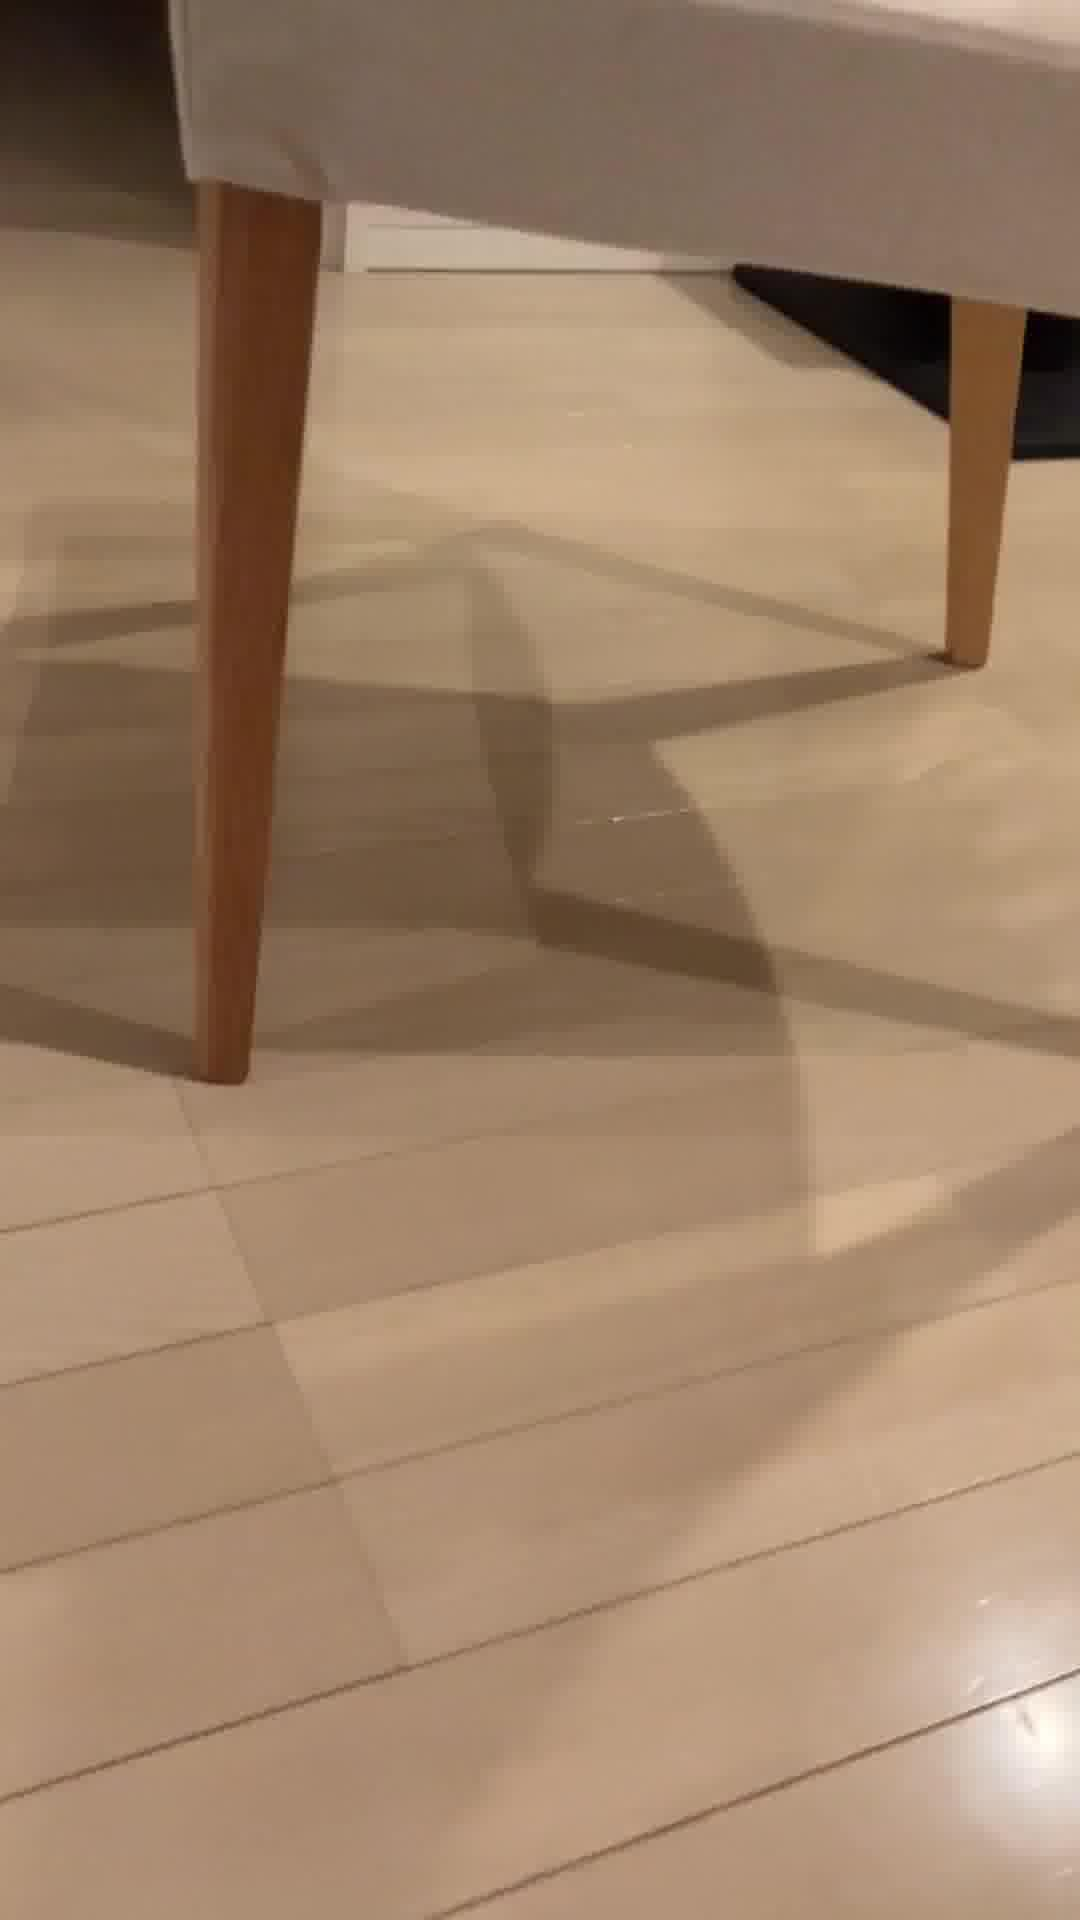takumikan-chair: (160, 0, 1080, 1095)
